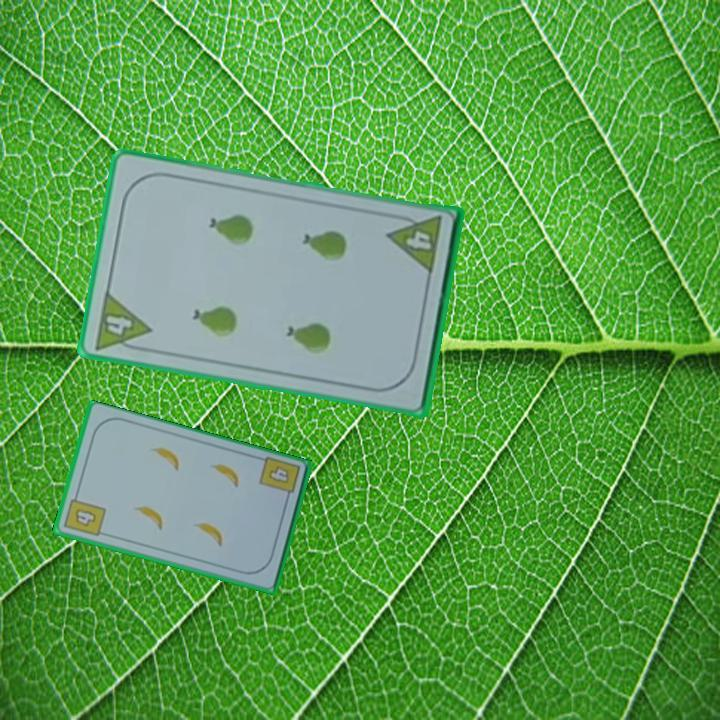4b: (256, 453, 303, 505), (61, 490, 109, 540)
4p: (91, 288, 154, 356), (384, 211, 444, 277)
